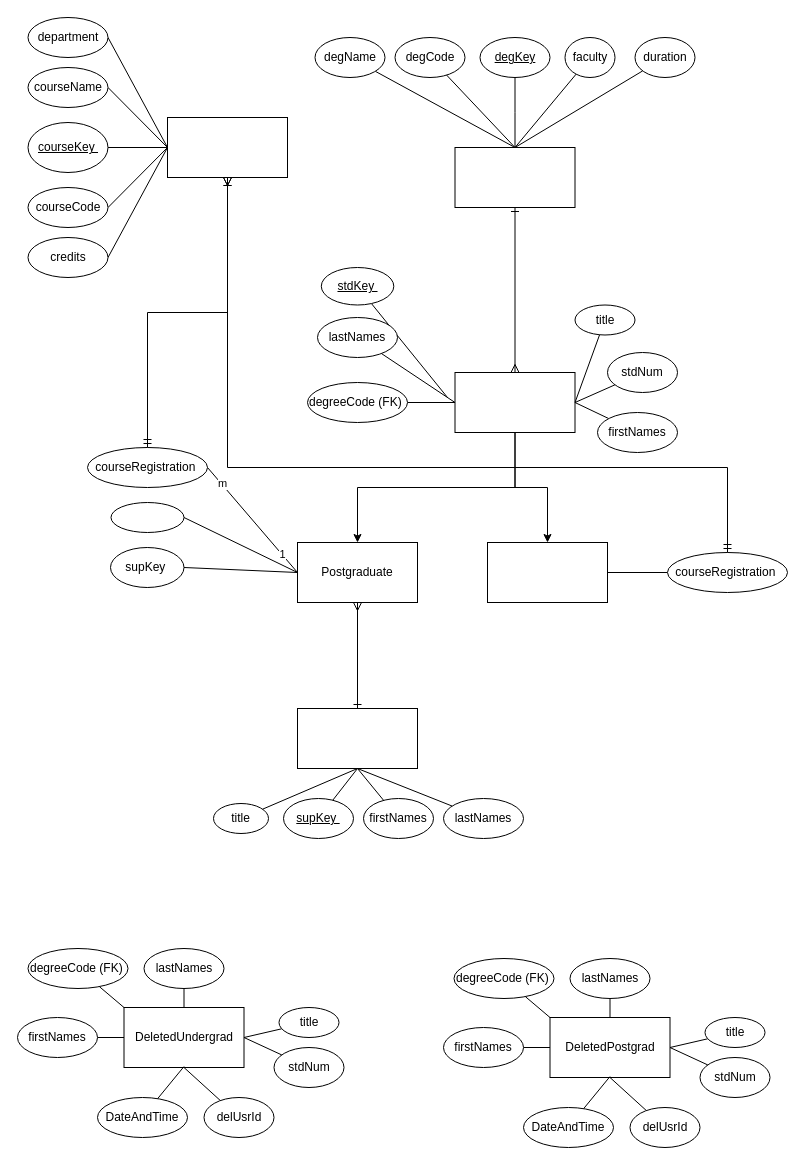
Some shapes in this 805 by 1165 pixel diagram are drawn without their labels. The shapes that lost their labels are listed below. From the top down, each one's box as (x1, y1, x2, y2) in pixels, then its label:
(166, 116, 288, 178): Course
(454, 146, 575, 208): DegreeProgram
(454, 372, 575, 432): Student
(110, 502, 184, 532): category
(486, 542, 608, 602): Undergraduate
(296, 708, 418, 768): Supervisor
